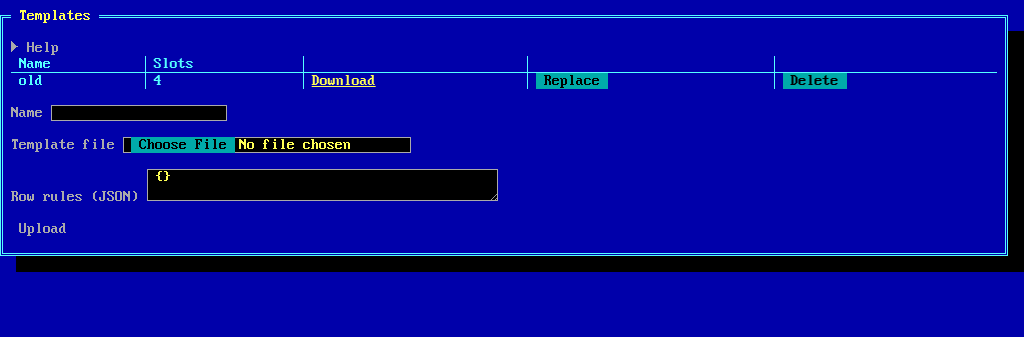
Test: Replace says so when no binding uses the template
Click the button "Replace".
click(572, 81)  # box left=536, top=73, right=608, bottom=89
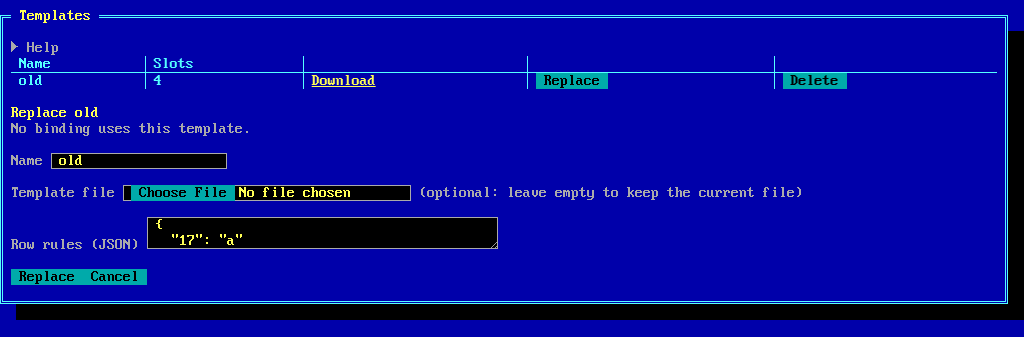
Now the text with class "used-by" reads "No binding uses this template.", box left=11, top=121, right=251, bottom=137
